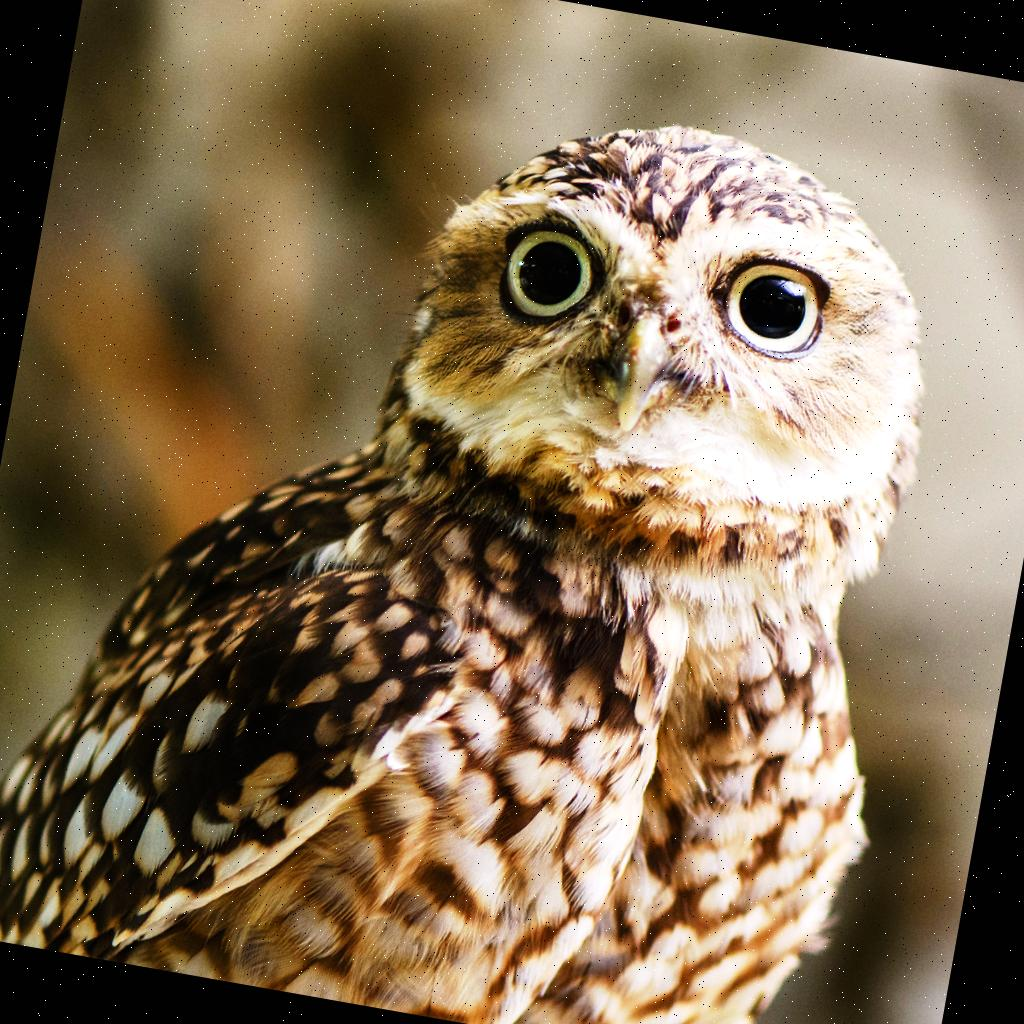Owl: (0, 18, 994, 1024)
